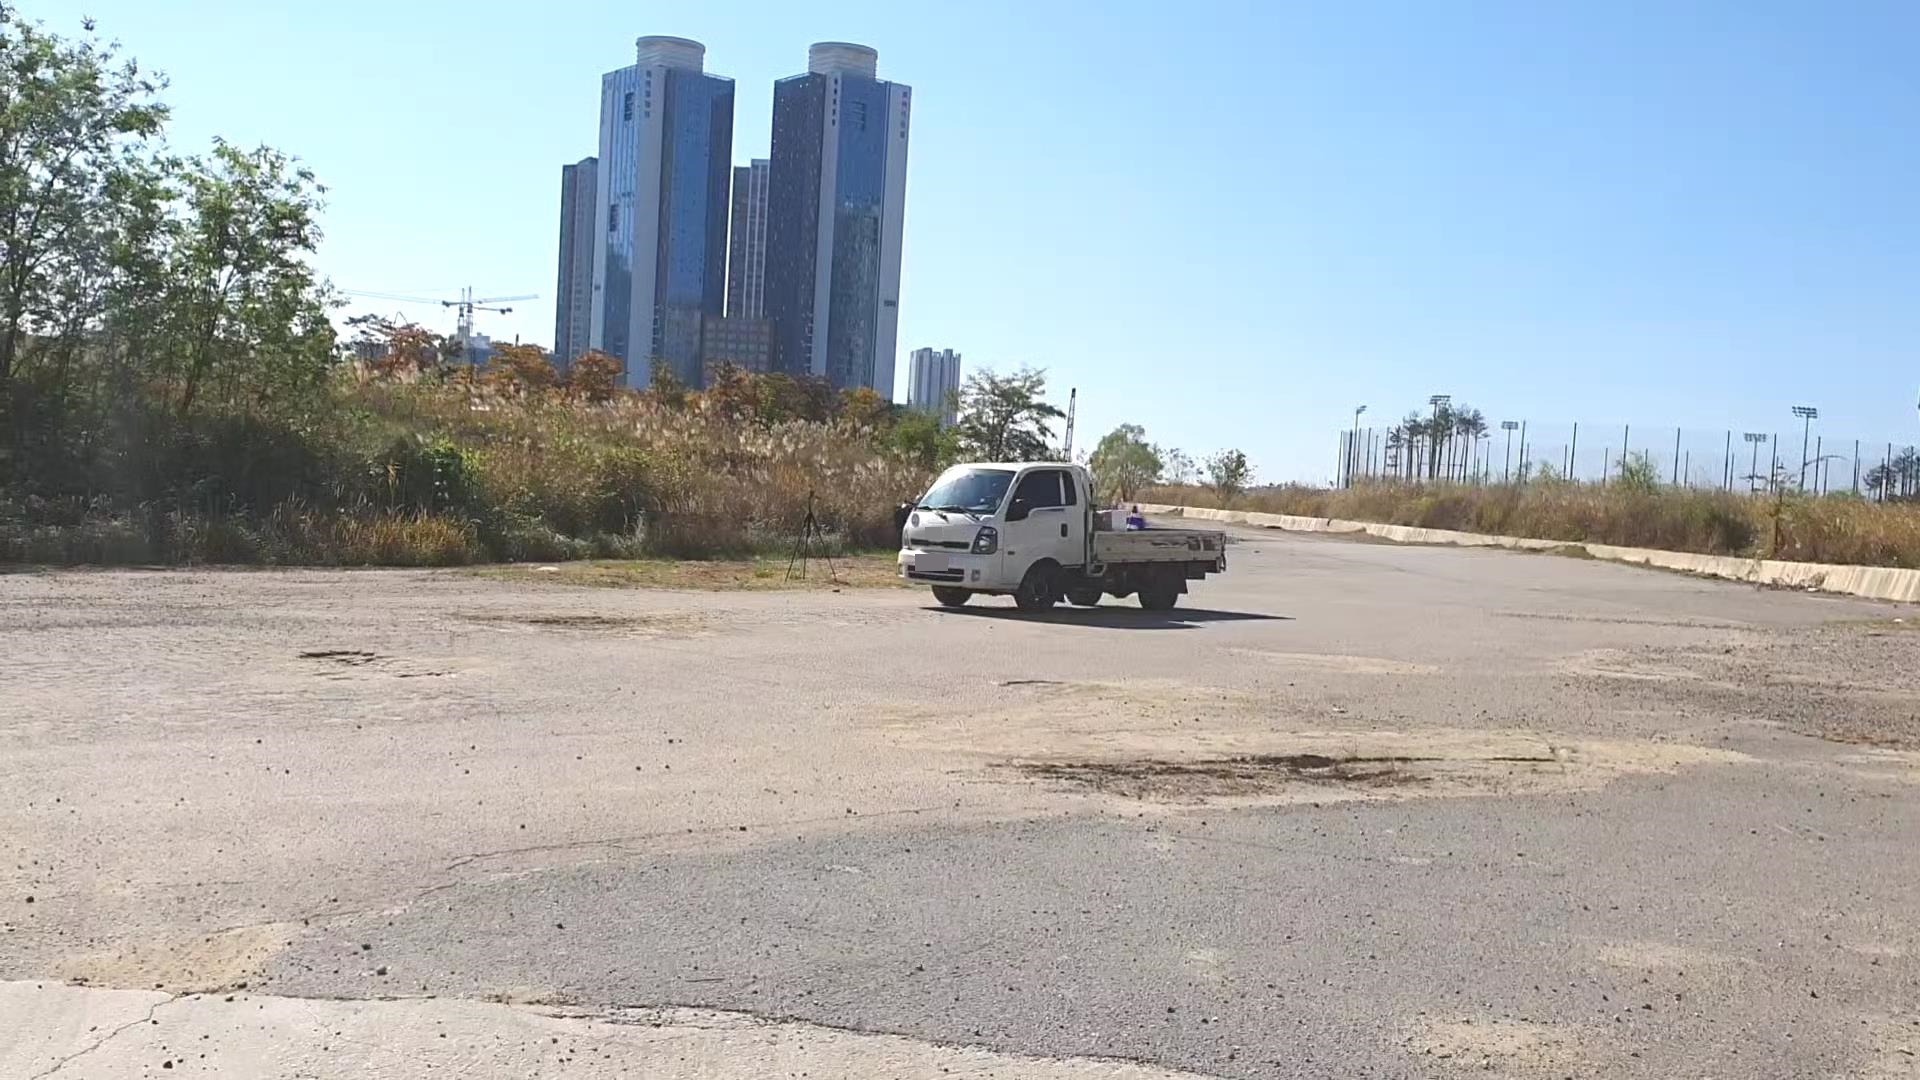불법차량: (897, 462, 1225, 617)
